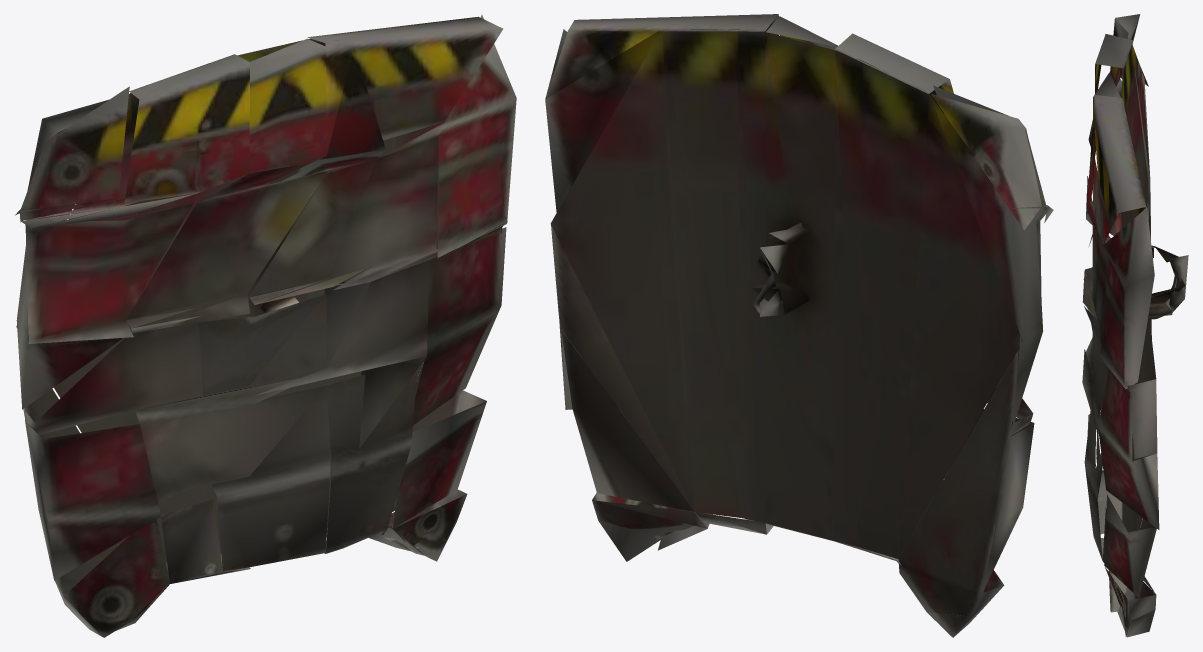
The model's file is s_shield_clan_lod1.fbx.
3 views of the same model, side by side, from view 1: azimuth 30°, elevation 25°; view 2: azimuth 150°, elevation 25°; view 3: azimuth 270°, elevation 25° (orthographic). The views are drawn at different scales.
Visible parts, largest first — view 1: tripo_node_82b5ae00-4e3c-4923-a245-ab363d4fa373; view 2: tripo_node_82b5ae00-4e3c-4923-a245-ab363d4fa373; view 3: tripo_node_82b5ae00-4e3c-4923-a245-ab363d4fa373.
Boxes of the visible parts, left/top/right/bottom form: tripo_node_82b5ae00-4e3c-4923-a245-ab363d4fa373: left=15, top=14, right=516, bottom=637; tripo_node_82b5ae00-4e3c-4923-a245-ab363d4fa373: left=545, top=14, right=1053, bottom=637; tripo_node_82b5ae00-4e3c-4923-a245-ab363d4fa373: left=1082, top=14, right=1188, bottom=637.
Bounding box in the file's own units: 0.792 × 0.8512 × 0.1679.
